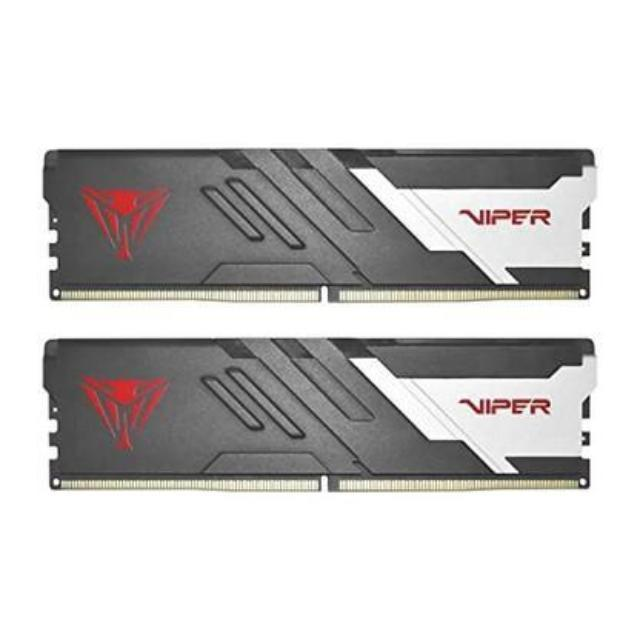RAM: (39, 136, 598, 319), (34, 334, 608, 494)
